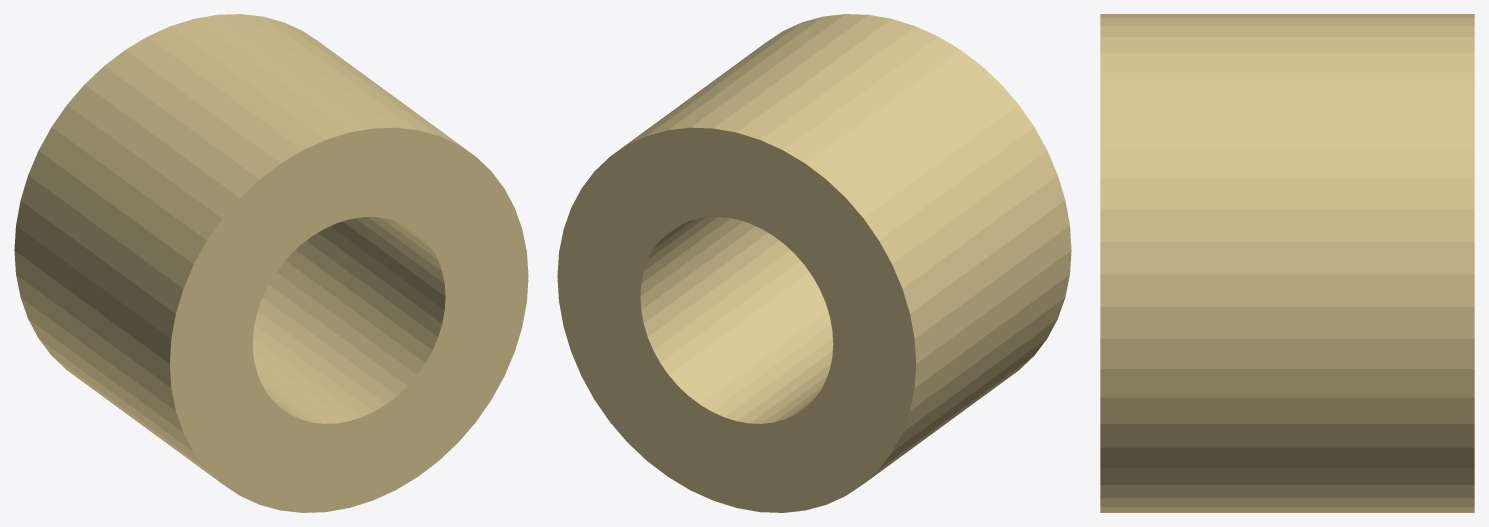
Rendered from pcb_spacer_311430640050_H4.glb.
3 renders of one model, left to right at view 1: azimuth 30°, elevation 25°; view 2: azimuth 150°, elevation 25°; view 3: azimuth 270°, elevation 25°, orthographic. The views are drawn at different scales.
Parts seen in each view (by area): view 1: pcb_spacer_311430640050_H4; view 2: pcb_spacer_311430640050_H4; view 3: pcb_spacer_311430640050_H4.
Boxes of the visible parts, bbox=[...] form: pcb_spacer_311430640050_H4: bbox=[14, 14, 528, 512]; pcb_spacer_311430640050_H4: bbox=[557, 14, 1071, 512]; pcb_spacer_311430640050_H4: bbox=[1100, 14, 1474, 512].
Bounding box in the file's own units: 8 × 8 × 6.
